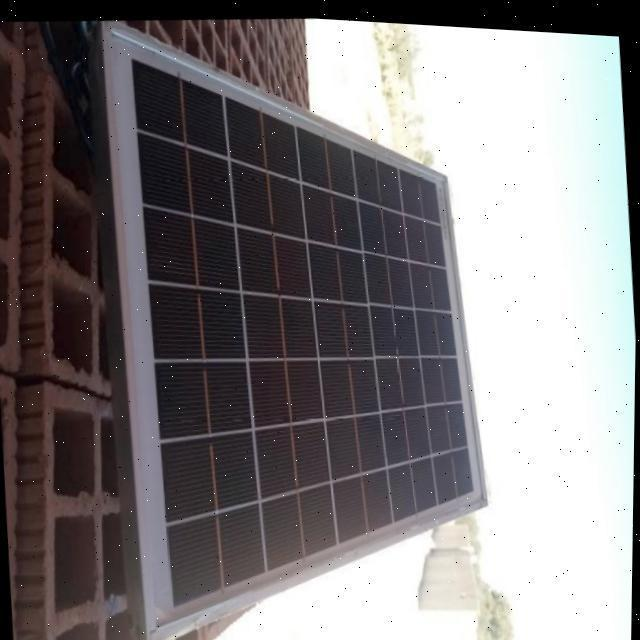Normal Solar Panel: (93, 5, 500, 640)
